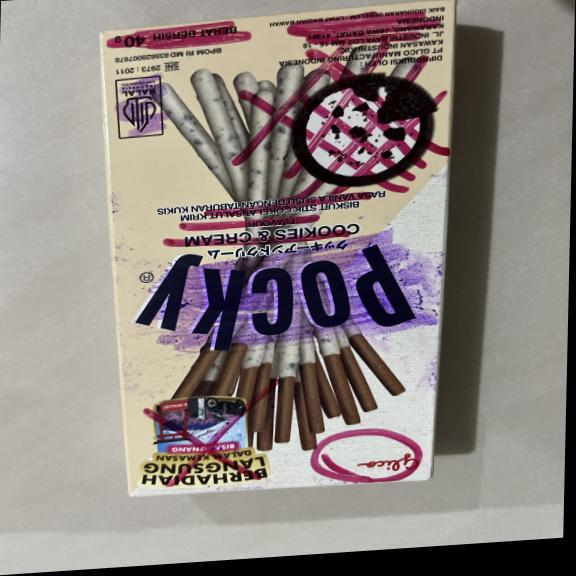Kertas: (93, 0, 455, 498)
